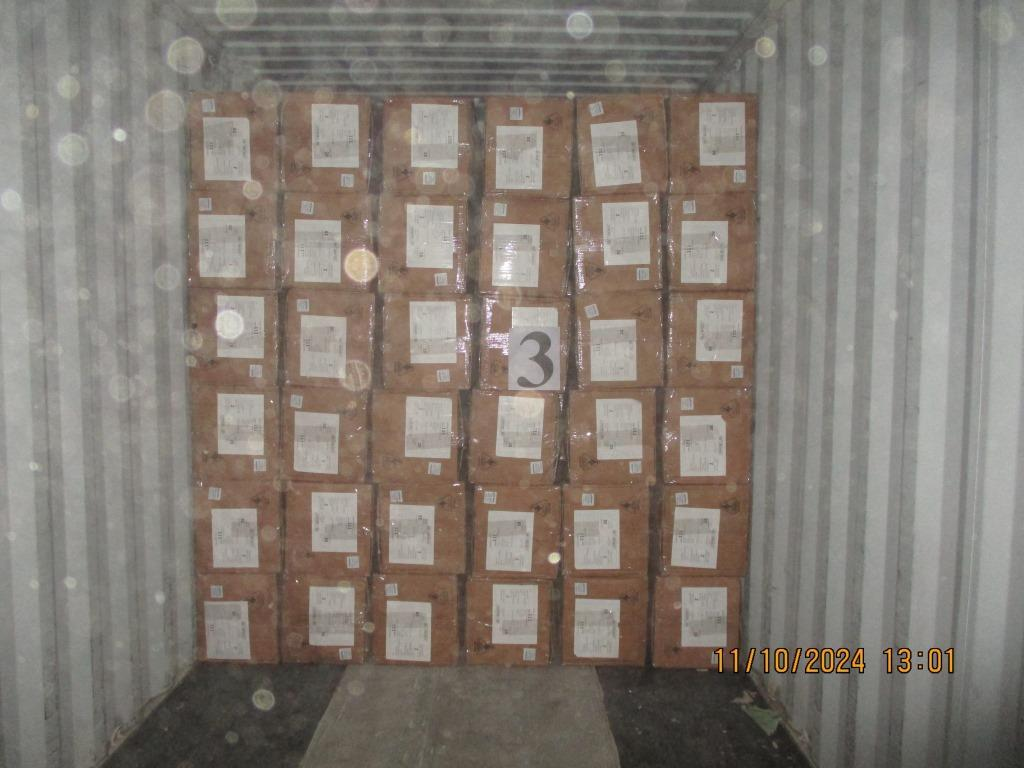carton: (372, 194, 473, 294), (379, 94, 478, 194), (278, 88, 373, 192), (377, 292, 478, 389), (279, 191, 377, 290), (466, 388, 565, 485), (186, 89, 281, 190), (281, 289, 376, 389), (574, 93, 668, 194), (481, 94, 574, 196), (476, 196, 570, 296), (571, 193, 664, 294), (665, 92, 757, 193), (185, 190, 278, 288), (665, 191, 757, 290), (659, 388, 753, 484), (652, 485, 751, 576), (478, 296, 572, 391), (572, 291, 664, 388), (188, 288, 280, 385), (189, 384, 281, 480), (664, 291, 755, 387), (566, 388, 657, 484), (470, 484, 562, 578), (279, 385, 369, 481), (192, 480, 284, 573), (370, 390, 463, 482), (284, 481, 374, 576), (651, 576, 742, 669), (370, 573, 461, 665), (374, 482, 466, 573), (279, 573, 369, 664), (561, 484, 649, 577), (560, 577, 648, 667), (464, 576, 552, 665), (195, 573, 278, 663)
